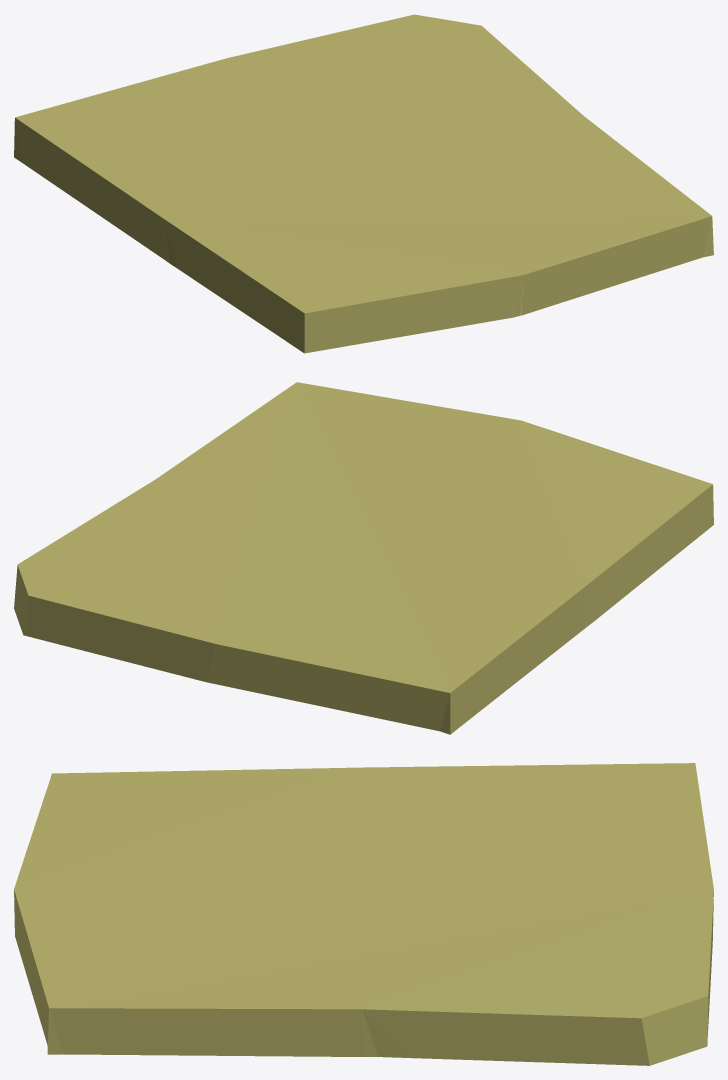
File: Prop_Jungle_Temple_Stepping_Stone_04.FBX
The picture shows the model from 3 angles, top to bottom: view 1: azimuth 30°, elevation 25°; view 2: azimuth 150°, elevation 25°; view 3: azimuth 270°, elevation 25°; orthographic projection. The views are drawn at different scales.
Visible parts, largest first — view 1: Prop_Jungle_Temple_Stepping_Stone_04; view 2: Prop_Jungle_Temple_Stepping_Stone_04; view 3: Prop_Jungle_Temple_Stepping_Stone_04.
Part boxes in pixels (bbox=[...]): Prop_Jungle_Temple_Stepping_Stone_04: bbox=[14, 14, 713, 353]; Prop_Jungle_Temple_Stepping_Stone_04: bbox=[14, 382, 713, 734]; Prop_Jungle_Temple_Stepping_Stone_04: bbox=[14, 763, 713, 1065].
Size of the model in its own units: 804 by 69.83 by 930.
